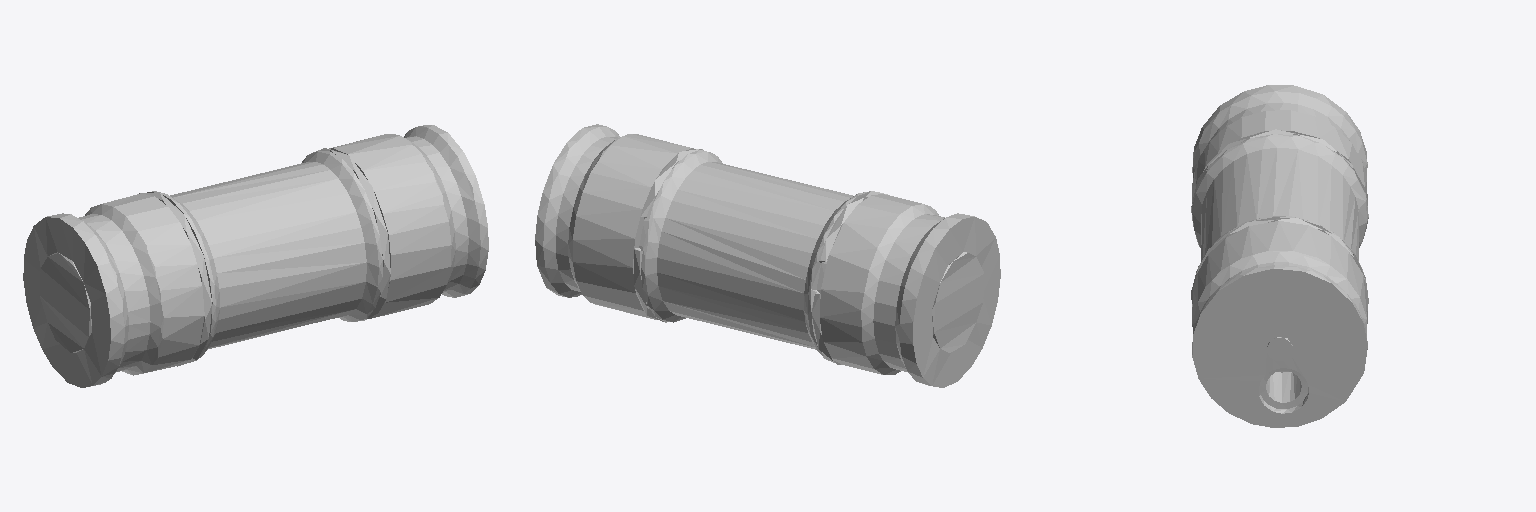
The picture shows the model from 3 angles: view 1: azimuth 30°, elevation 25°; view 2: azimuth 150°, elevation 25°; view 3: azimuth 270°, elevation 25°; orthographic projection.
Visible parts, largest first — view 1: RS1-[number redacted]; view 2: RS1-[number redacted]; view 3: RS1-[number redacted].
Boxes of the visible parts, x1=… form: RS1-[number redacted]: x1=23, y1=125, x2=488, y2=387; RS1-[number redacted]: x1=535, y1=124, x2=1000, y2=387; RS1-[number redacted]: x1=1191, y1=85, x2=1368, y2=427.
Size of the model in its own units: 0.1003 by 0.0403 by 0.0404.